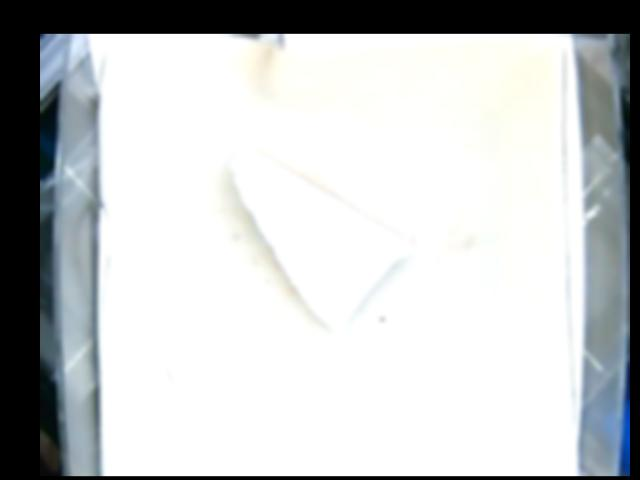China: (228, 149, 409, 330)
